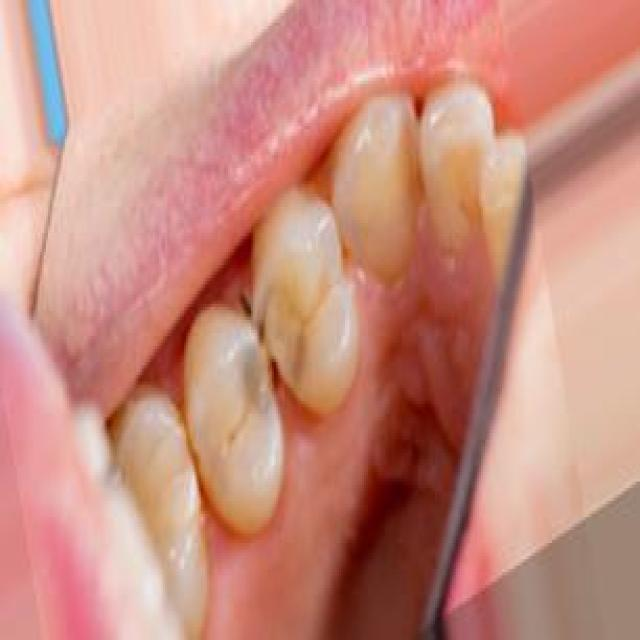caries: (237, 282, 314, 421)
